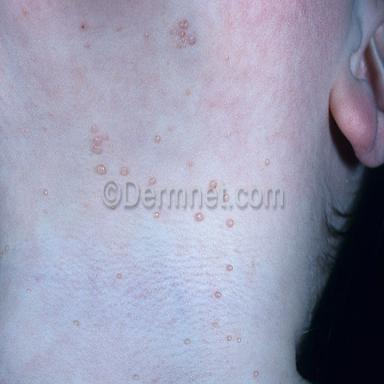Molluscum-Contagiosum: (97, 164, 107, 175), (179, 20, 189, 29), (93, 145, 102, 154), (120, 167, 128, 177), (188, 35, 196, 45), (195, 213, 203, 222), (209, 180, 217, 188), (227, 218, 234, 227), (149, 177, 156, 185), (154, 135, 161, 143), (91, 125, 97, 134), (253, 370, 259, 378), (73, 319, 79, 326), (215, 291, 221, 298), (227, 264, 233, 271), (185, 89, 191, 96), (43, 188, 48, 196), (116, 273, 122, 279), (154, 211, 159, 218), (265, 159, 270, 166), (144, 31, 149, 38), (26, 288, 31, 294), (133, 375, 139, 380), (185, 338, 190, 344), (227, 335, 232, 341), (116, 25, 121, 31), (84, 43, 89, 49), (237, 337, 241, 343), (188, 161, 192, 167), (5, 245, 9, 251), (213, 322, 217, 327), (44, 209, 48, 214), (0, 252, 3, 258), (43, 126, 46, 131), (169, 126, 172, 130)
